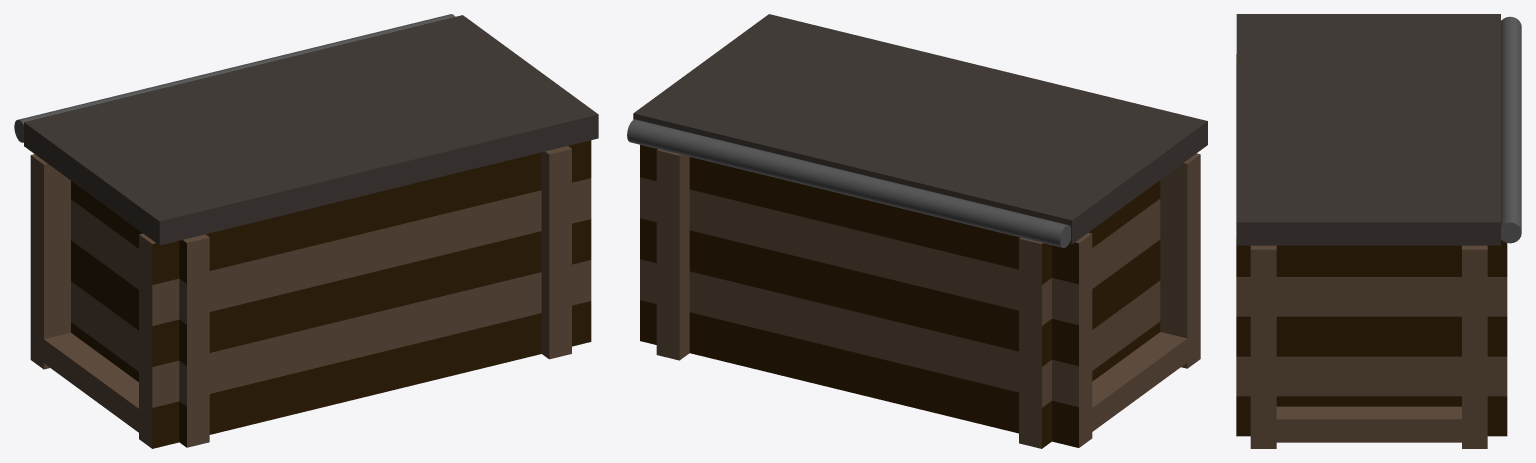
Rendered from cannonabanana - Copy.fbx.
The picture shows the model from 3 angles, left to right: view 1: azimuth 30°, elevation 25°; view 2: azimuth 150°, elevation 25°; view 3: azimuth 270°, elevation 25°; orthographic projection. The views are drawn at different scales.
Parts seen in each view (by area): view 1: pasted__pasted__pCube2, lid1, pasted__pCube2, lid2, pCube1, pasted__pasted__pCube3, pasted__pCube1, pasted__pasted__pasted__pCube3, hinge; view 2: pasted__pasted__pCube3, lid2, pasted__pasted__pasted__pCube2, lid1, pCube1, hinge, pasted__pCube2, pasted__pCube1, pasted__pasted__pasted__pCube3; view 3: pasted__pCube1, lid2, lid1, pasted__pasted__pasted__pasted__pCube2, pasted__pasted__pCube2, pasted__pasted__pasted__pCube2, hinge.
Boxes of the visible parts, x1,y1,x2,y2 form: pasted__pasted__pCube2: (350,140,591,400); lid1: (24,64,400,245); pasted__pCube2: (139,188,393,448); lid2: (222,15,598,196); pCube1: (71,181,209,447); pasted__pasted__pCube3: (30,154,70,369); pasted__pCube1: (541,146,571,359); pasted__pasted__pasted__pCube3: (44,332,151,441); hinge: (14,14,455,142); pasted__pasted__pCube3: (837,193,1092,447); lid2: (633,14,1009,177); pasted__pasted__pasted__pCube2: (640,145,880,389); lid1: (831,62,1207,244); pCube1: (1019,180,1160,448); hinge: (627,119,1070,247); pasted__pCube2: (1160,153,1200,368); pasted__pCube1: (656,149,689,360); pasted__pasted__pasted__pCube3: (1092,329,1199,431); pasted__pCube1: (1236,226,1507,436); lid2: (1236,108,1500,245); lid1: (1236,14,1500,107); pasted__pasted__pasted__pasted__pCube2: (1252,406,1472,442); pasted__pasted__pCube2: (1250,245,1276,448); pasted__pasted__pasted__pCube2: (1462,245,1487,448); hinge: (1501,16,1521,243).
Size of the model in its own units: 2.24 by 1.14 by 1.3.
